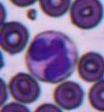N: (25, 30, 78, 82)
